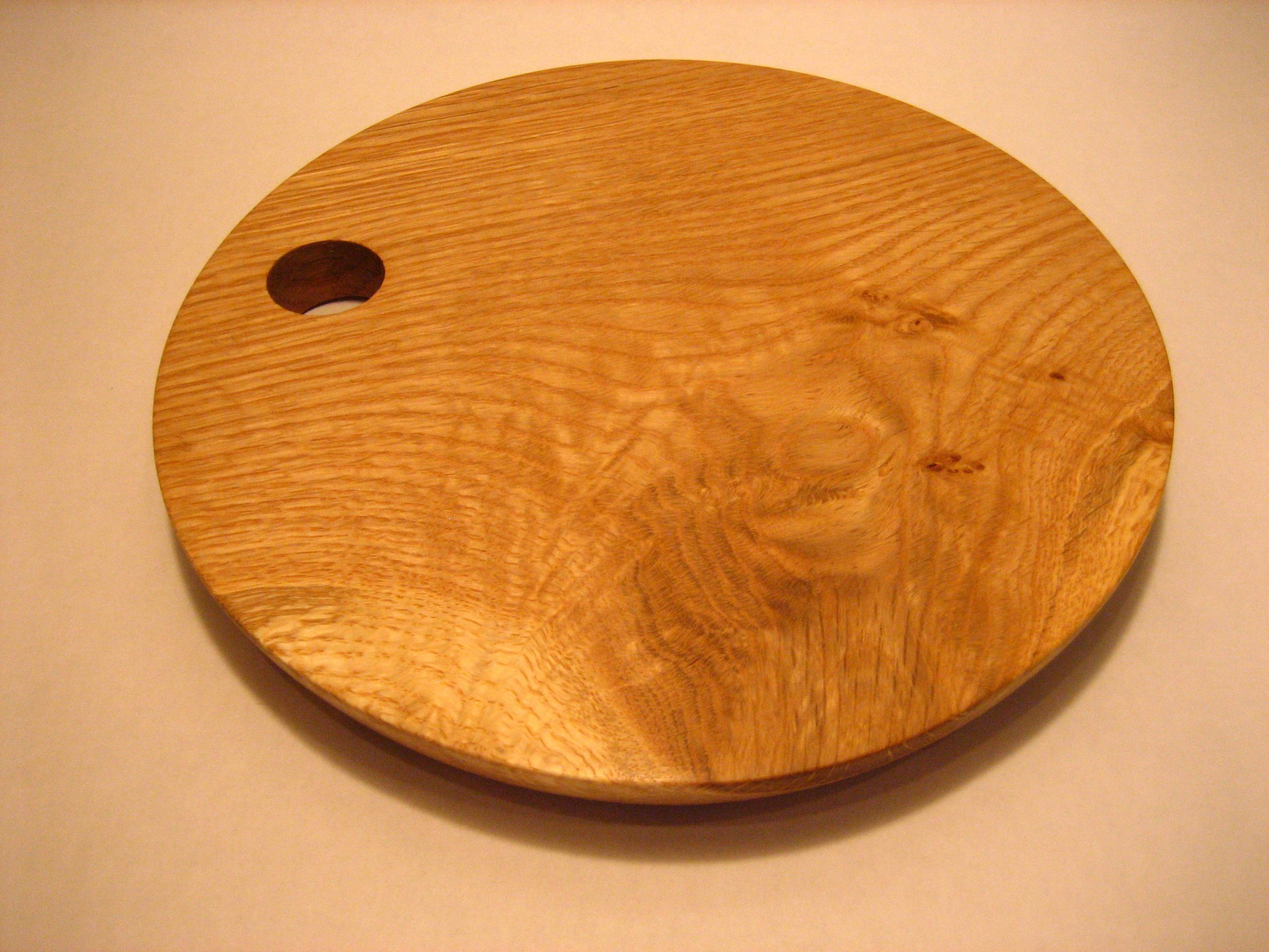gloved_hand: (128, 49, 1185, 827)
